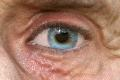eye: (49, 27, 76, 48)
